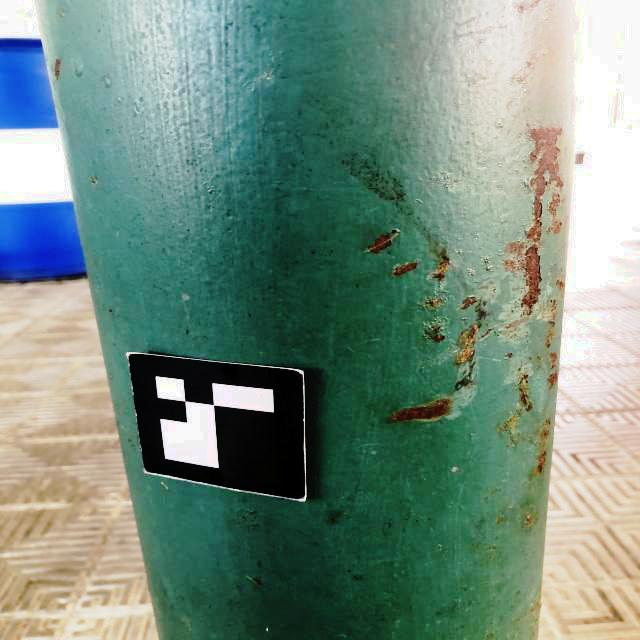Corrosion: (503, 126, 570, 318), (389, 398, 452, 422), (534, 419, 553, 476), (541, 298, 560, 348), (365, 229, 400, 254), (518, 365, 533, 412), (426, 257, 450, 282), (418, 292, 446, 310), (424, 320, 446, 342), (392, 260, 420, 276), (548, 352, 560, 389), (458, 295, 478, 310), (477, 328, 494, 342), (556, 276, 566, 293), (526, 515, 536, 528), (503, 324, 516, 332), (492, 284, 498, 294), (506, 353, 513, 359), (537, 357, 542, 362)
